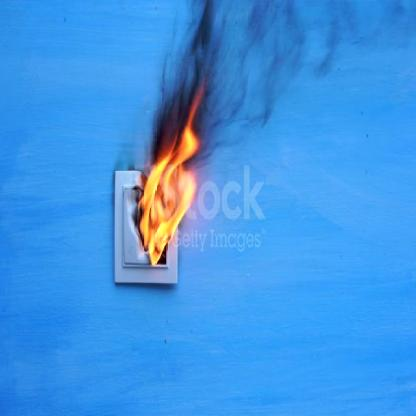fire: (132, 81, 204, 271)
smoke: (152, 0, 415, 171)
